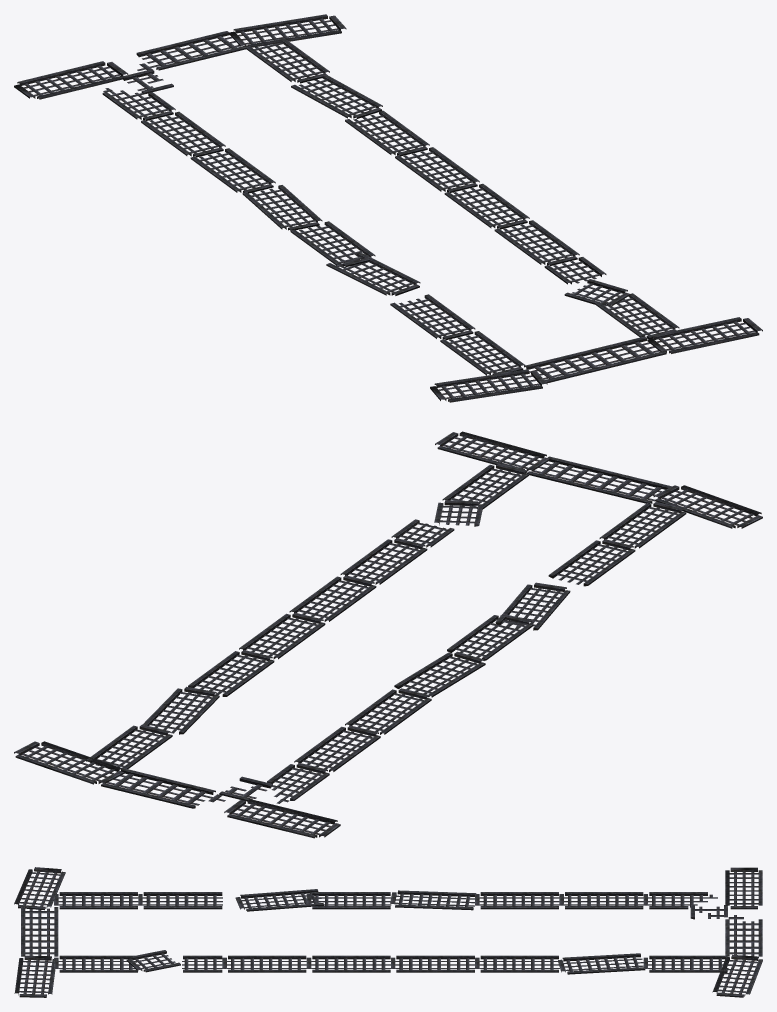
File: tlfb_jinshu1.FBX
The picture shows the model from 3 angles, top to bottom: view 1: azimuth 30°, elevation 25°; view 2: azimuth 150°, elevation 25°; view 3: azimuth 270°, elevation 25°; orthographic projection. The views are drawn at different scales.
Parts seen in each view (by area): view 1: tlfb_jinshu1; view 2: tlfb_jinshu1; view 3: tlfb_jinshu1.
Part boxes in pixels (x1,y1,x2,y2): tlfb_jinshu1: [14, 14, 762, 402]; tlfb_jinshu1: [14, 431, 762, 838]; tlfb_jinshu1: [14, 867, 762, 997].
Size of the model in its own units: 543 by 4.39 by 1327.
